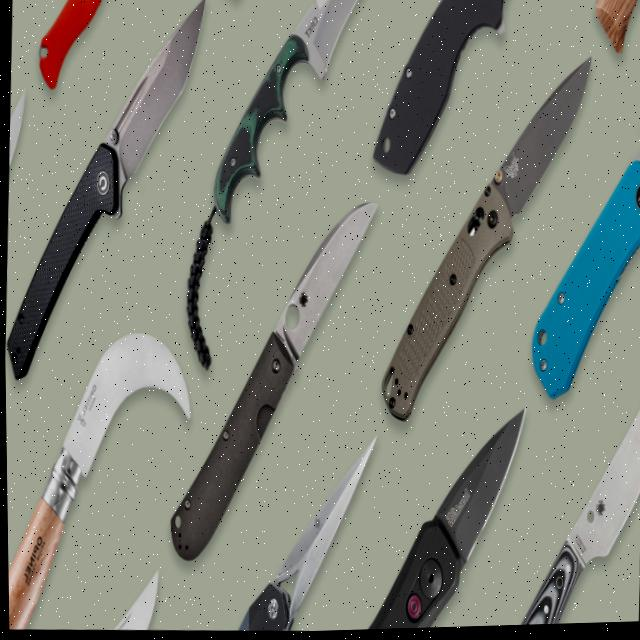knife: (213, 28, 614, 457), (2, 175, 397, 603), (287, 387, 543, 633), (115, 0, 350, 238), (422, 186, 640, 433), (163, 410, 396, 636), (288, 0, 495, 211), (501, 375, 640, 628), (3, 82, 41, 244), (34, 0, 119, 69), (94, 566, 167, 632)
